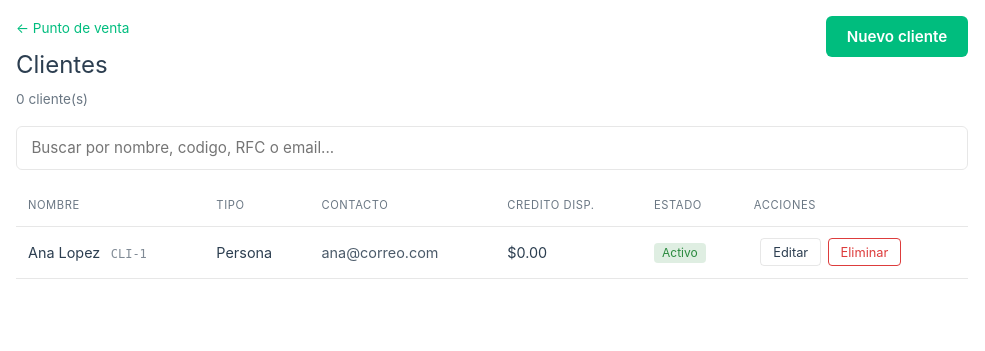
Test: CustomersView › elimina el cliente al confirmar y muestra feedback
Click the button with class "cust-table__btn--danger".
click(864, 252)  # box [828,238,901,266]
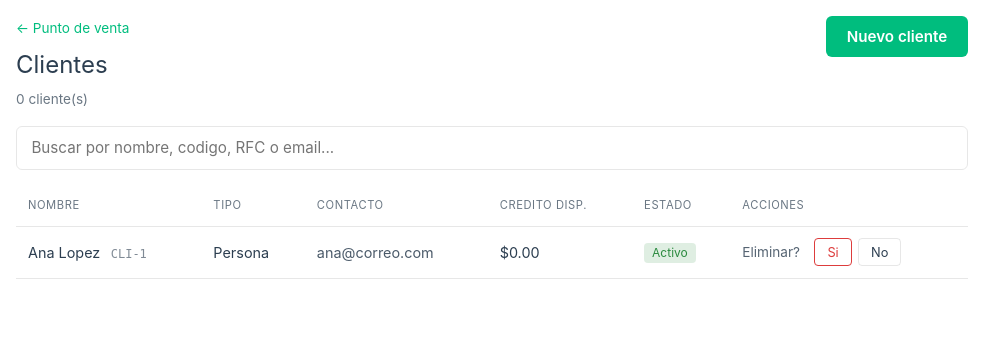
Check: the button with class "cust-table__btn--danger" is shown
Click the button with class "cust-table__btn--danger".
click(833, 252)  # box [814,238,852,266]
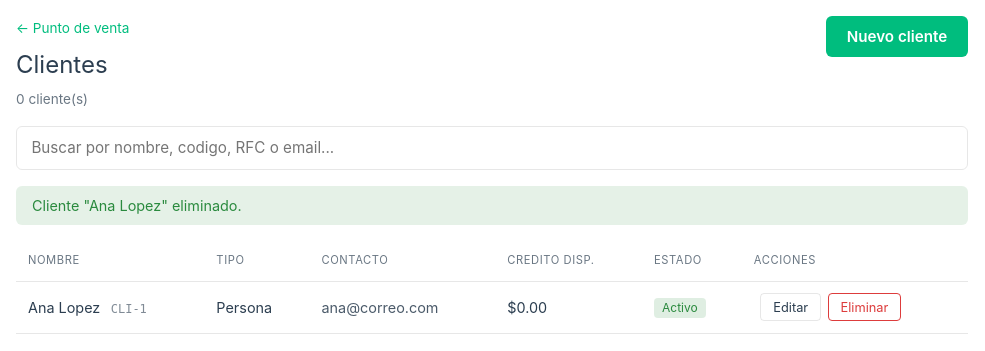
Check: the text with class "cust-view__feedback" shows "eliminado", box [32,197,242,214]
